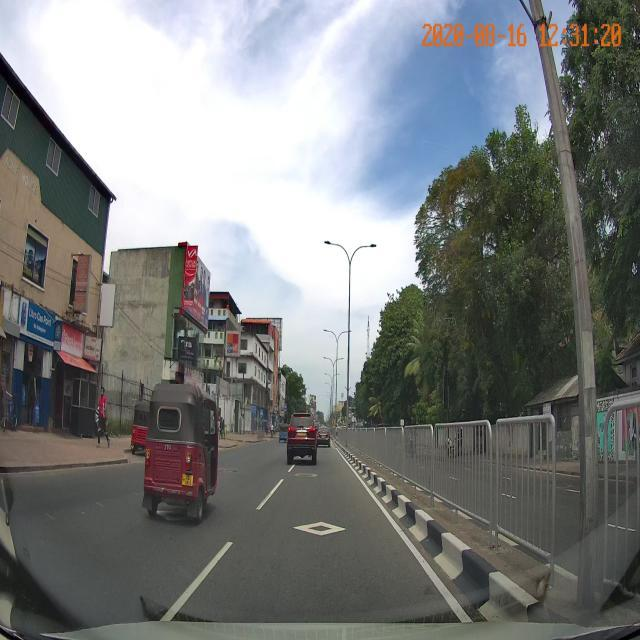diamond: (240, 515, 417, 546)
